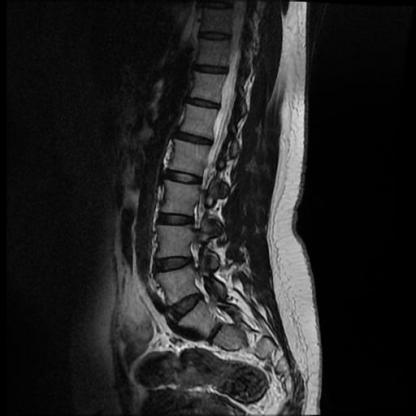Annular Disc Relaxationrotation: (171, 296, 206, 316), (212, 319, 224, 342)
Degenerative Disc Diseaserotation: (171, 296, 206, 316), (167, 170, 204, 186), (210, 321, 222, 344)
Disc Bulgerotation: (166, 170, 203, 186)
